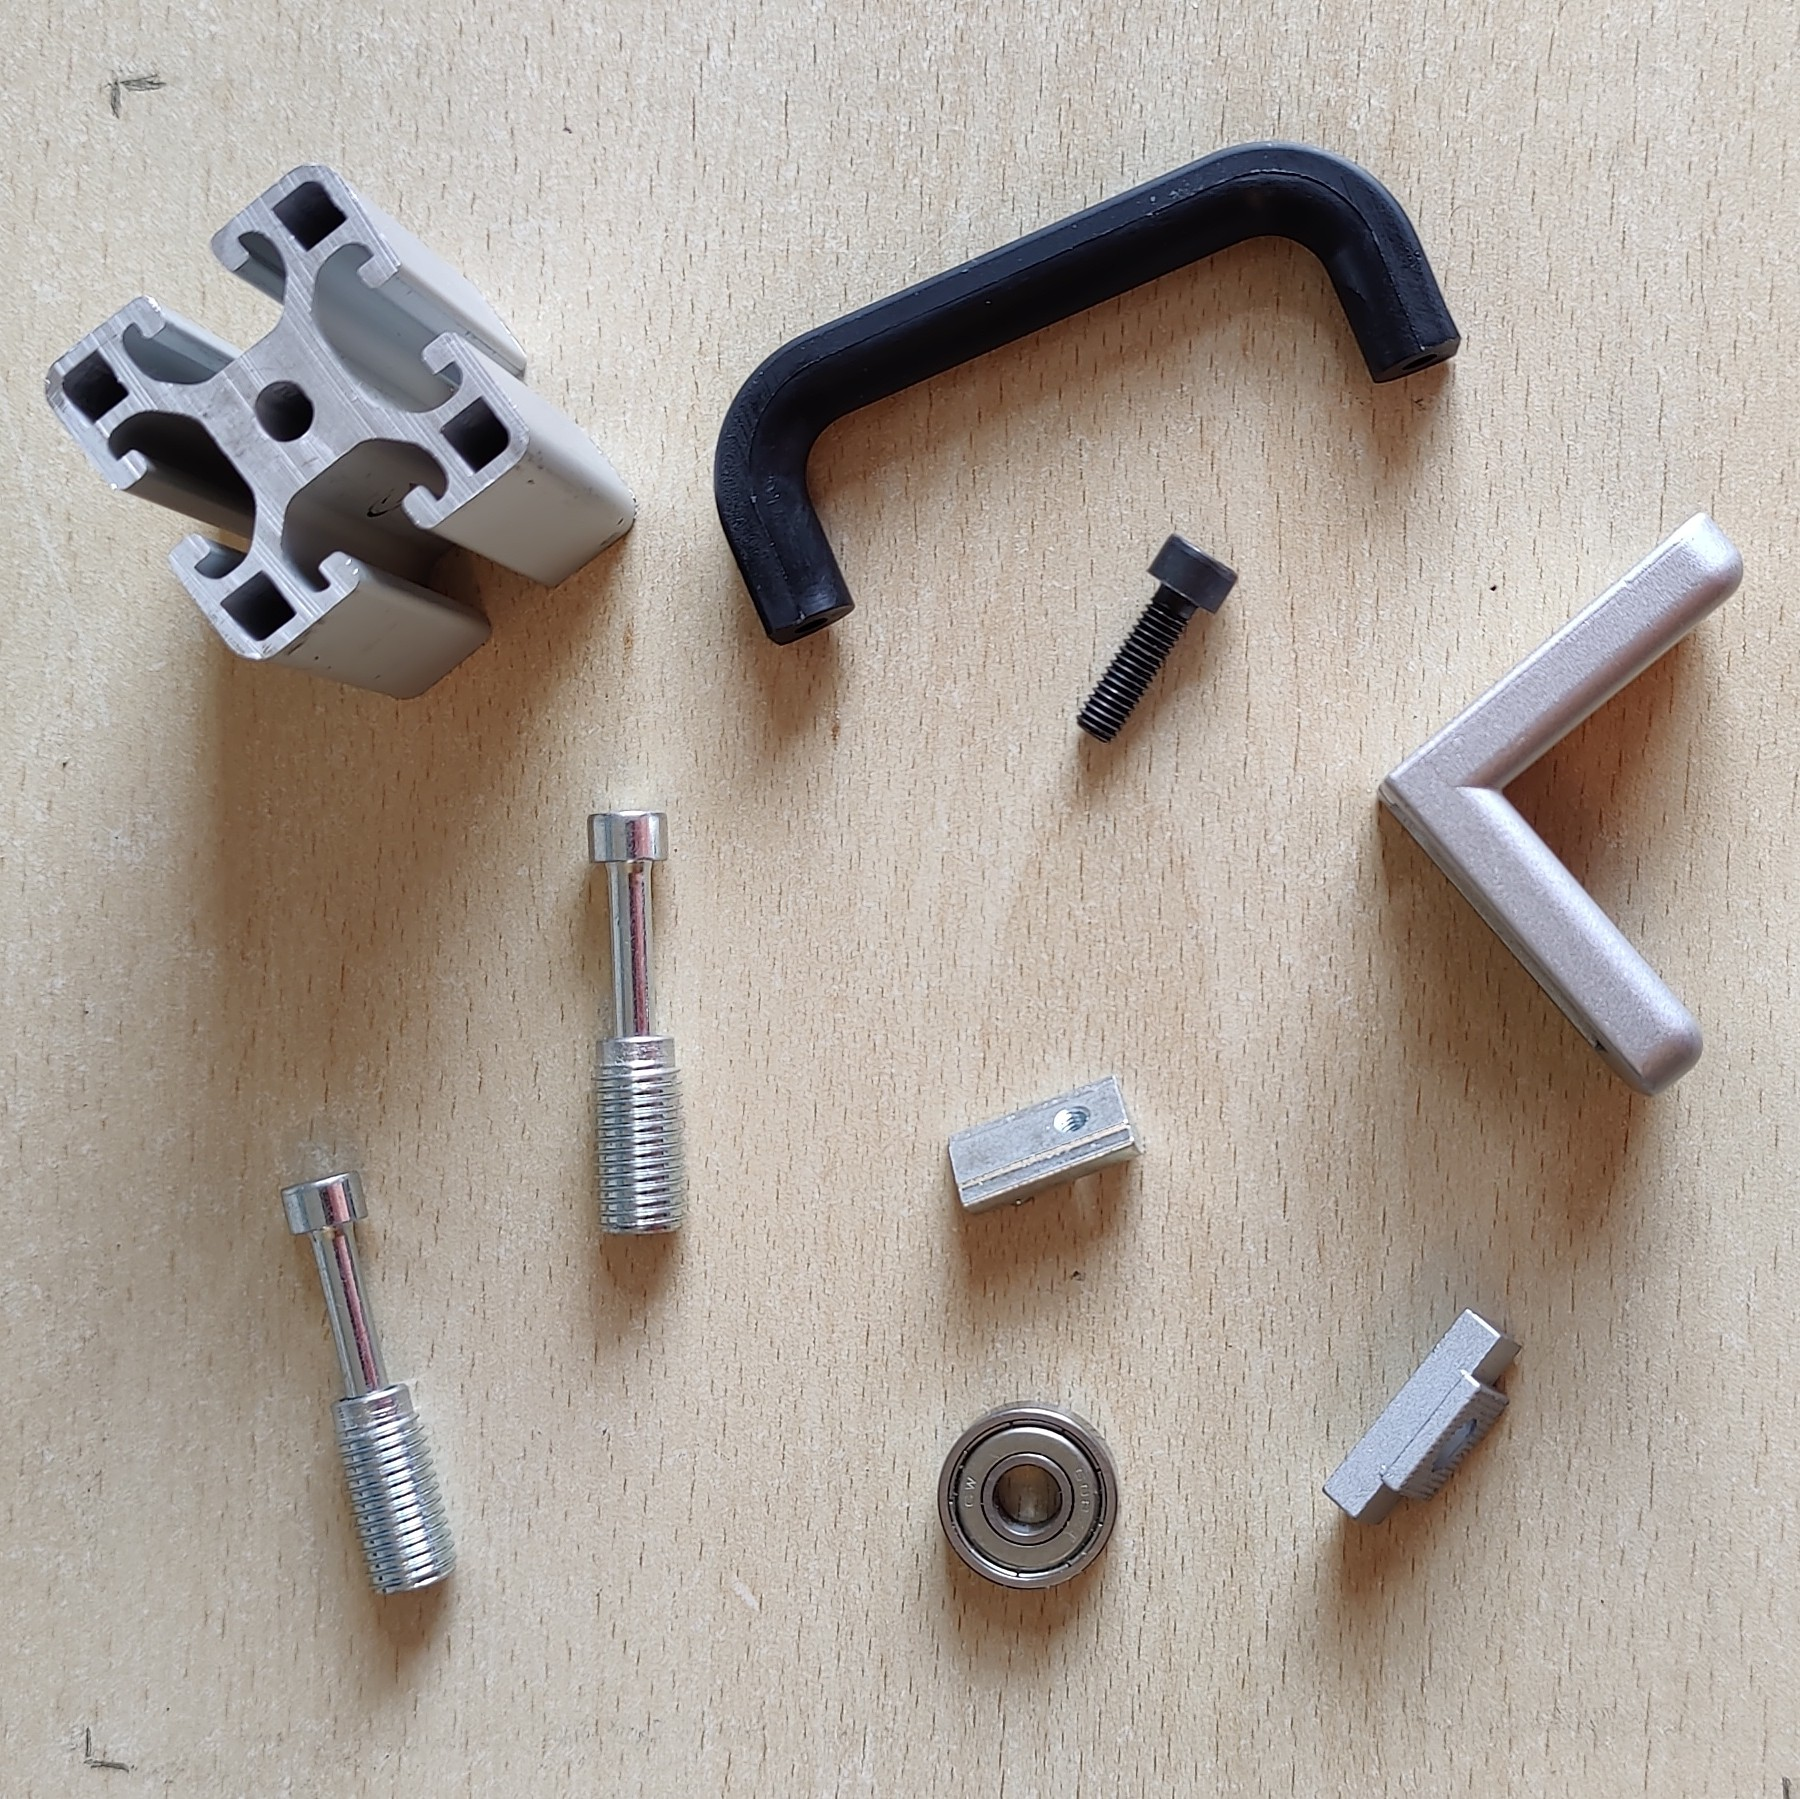Aluminium Extension: (43, 160, 639, 702)
Ball Bearing: (935, 1399, 1122, 1591)
Multiwinkel: (1375, 507, 1747, 1099)
Pull Handle: (711, 137, 1461, 647)
Shoulder Socket Head Cap Screw: (278, 1165, 459, 1600), (585, 804, 690, 1237)
Socket Head Cap Screw: (1074, 530, 1242, 746)
T Nut Square: (1321, 1303, 1527, 1526)
T Spring Nut: (945, 1071, 1145, 1216)
